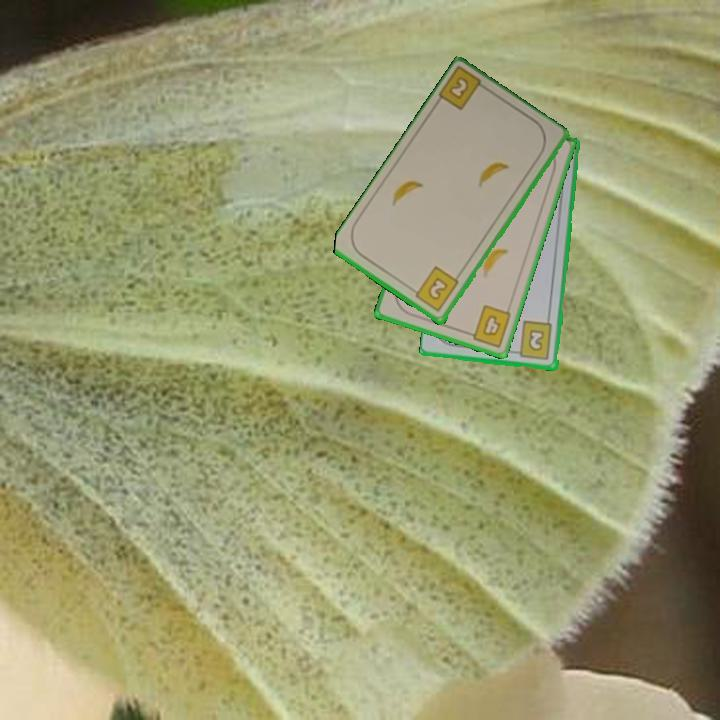2b: (408, 263, 462, 315), (435, 65, 492, 114), (510, 318, 555, 363)
4b: (463, 301, 514, 350)
